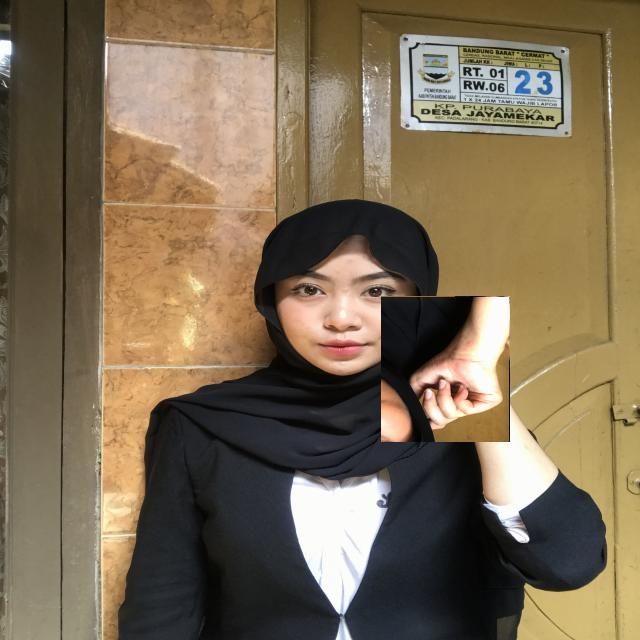ibu: (381, 296, 510, 442)
